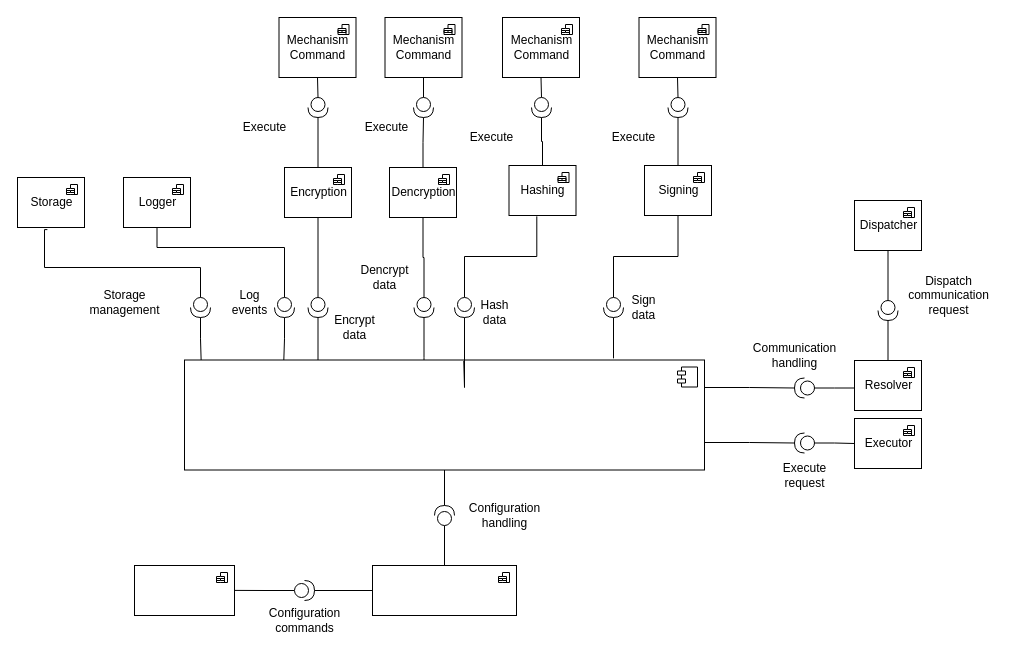
This 1015x653 diagram has some shape labels left out. The shapes that lost their labels are listed below. From the top down, each one's centre as x and y in pixels, then its label:
At point 444,414: "PKCS11 Server".
At point 184,590: "Configuration API".
At point 444,590: "Configuration API Proxy".
